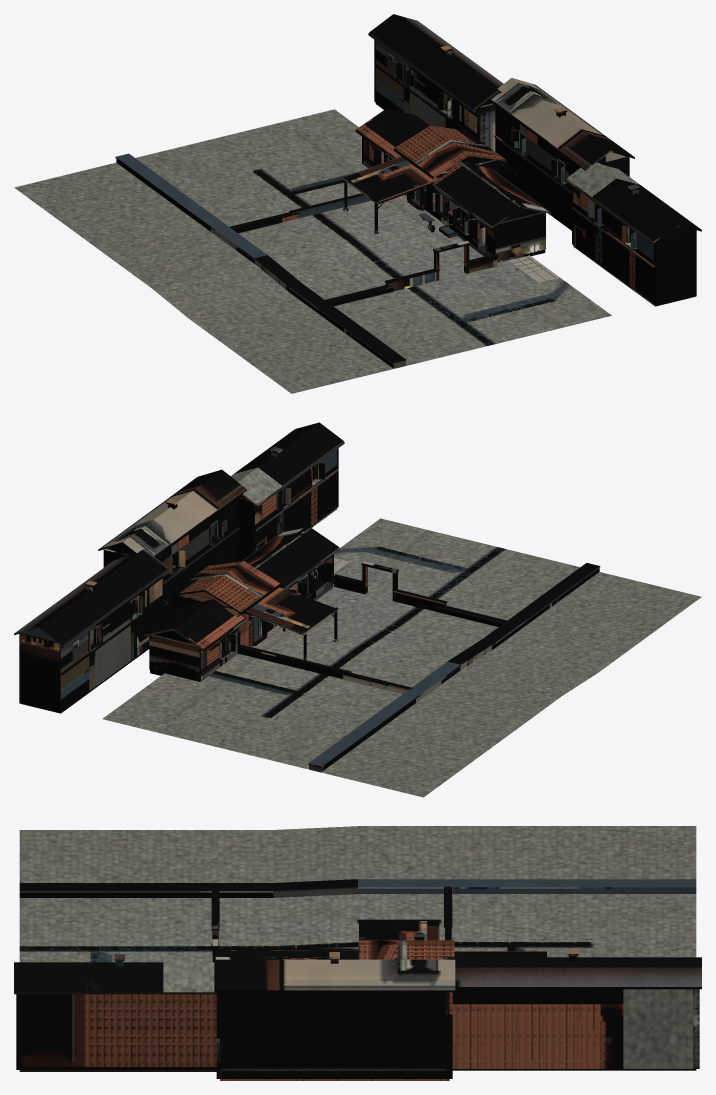
Rendered from environment.obj.
3 renders of one model, top to bottom at view 1: azimuth 30°, elevation 25°; view 2: azimuth 150°, elevation 25°; view 3: azimuth 270°, elevation 25°, orthographic. The views are drawn at different scales.
Parts seen in each view (by area): view 1: st_maria_praca_TH_RENDER_EnvironmentBakedAtlas; view 2: st_maria_praca_TH_RENDER_EnvironmentBakedAtlas; view 3: st_maria_praca_TH_RENDER_EnvironmentBakedAtlas.
Part boxes in pixels (left/top/right/bottom): st_maria_praca_TH_RENDER_EnvironmentBakedAtlas: left=14, top=14, right=701, bottom=393; st_maria_praca_TH_RENDER_EnvironmentBakedAtlas: left=14, top=422, right=701, bottom=797; st_maria_praca_TH_RENDER_EnvironmentBakedAtlas: left=14, top=826, right=701, bottom=1080.
Size of the model in its own units: 42.23 by 8.95 by 48.8.
